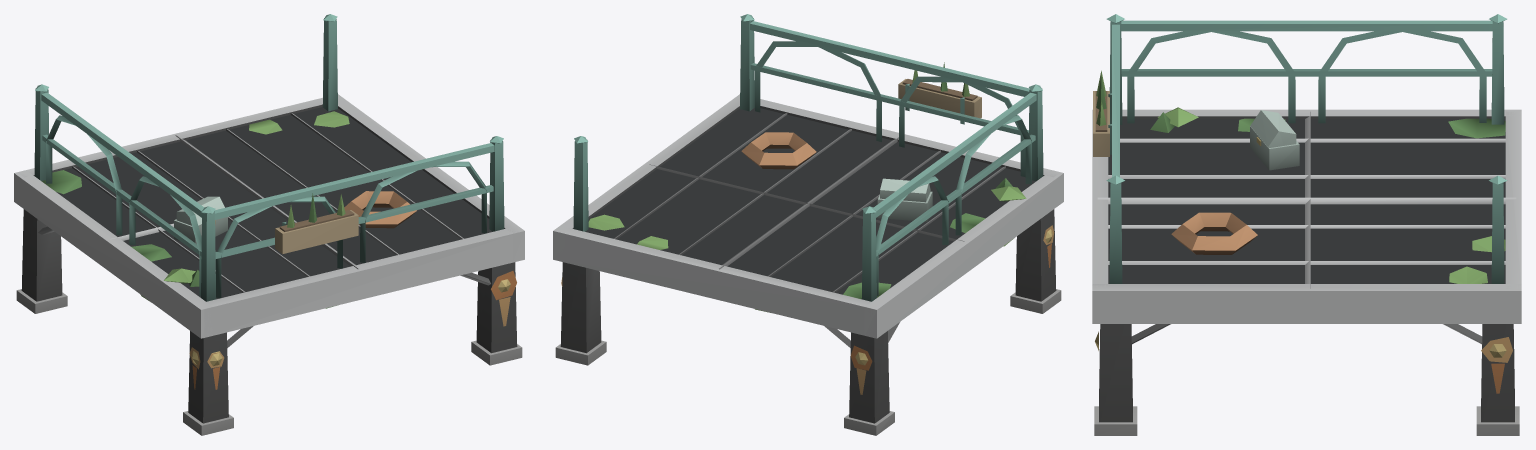
File: platform.glb
3 renders of one model, left to right at view 1: azimuth 30°, elevation 25°; view 2: azimuth 150°, elevation 25°; view 3: azimuth 270°, elevation 25°, orthographic. The views are drawn at different scales.
Visible parts, largest first — view 1: platform.001; view 2: platform.001; view 3: platform.001.
Part boxes in pixels (x1=…): platform.001: x1=14, y1=14, x2=524, y2=435; platform.001: x1=553, y1=14, x2=1063, y2=435; platform.001: x1=1092, y1=14, x2=1521, y2=435.
Size of the model in its own units: 4 by 2.58 by 4.
